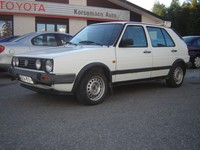car: (10, 23, 190, 104)
